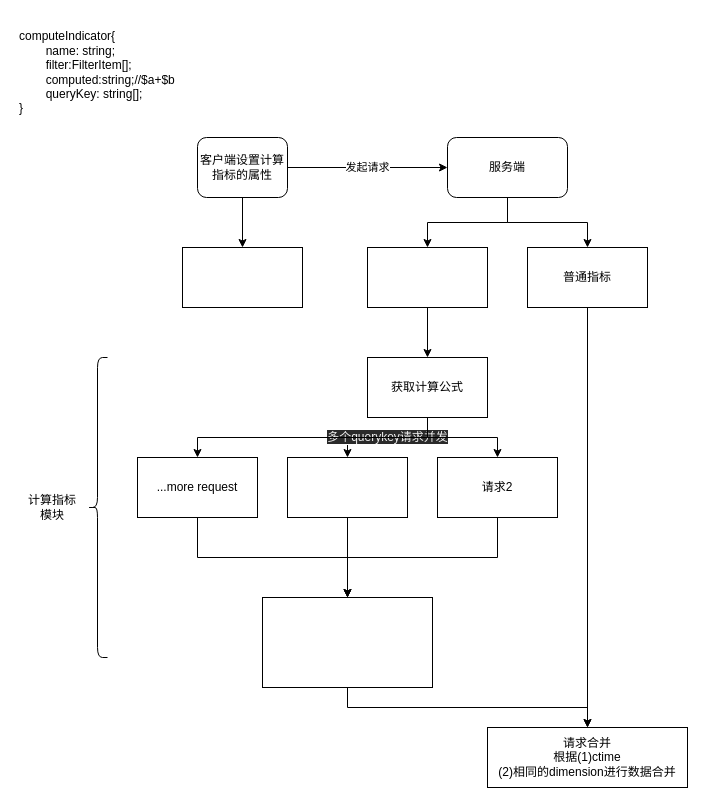
Image size: 705x805. Some labels were removed from this diagram. Here are the shapes that lost their labels. From the top down, the centre of each, then its label:
At (242,277): "绑定querykey 设置计算公式".
At (427,277): "计算指标".
At (347,487): "请求1".
At (347,642): "请求合并，指标计算 根据(1)ctime (2)相同的dimension 进行数据合并 指标计算".
